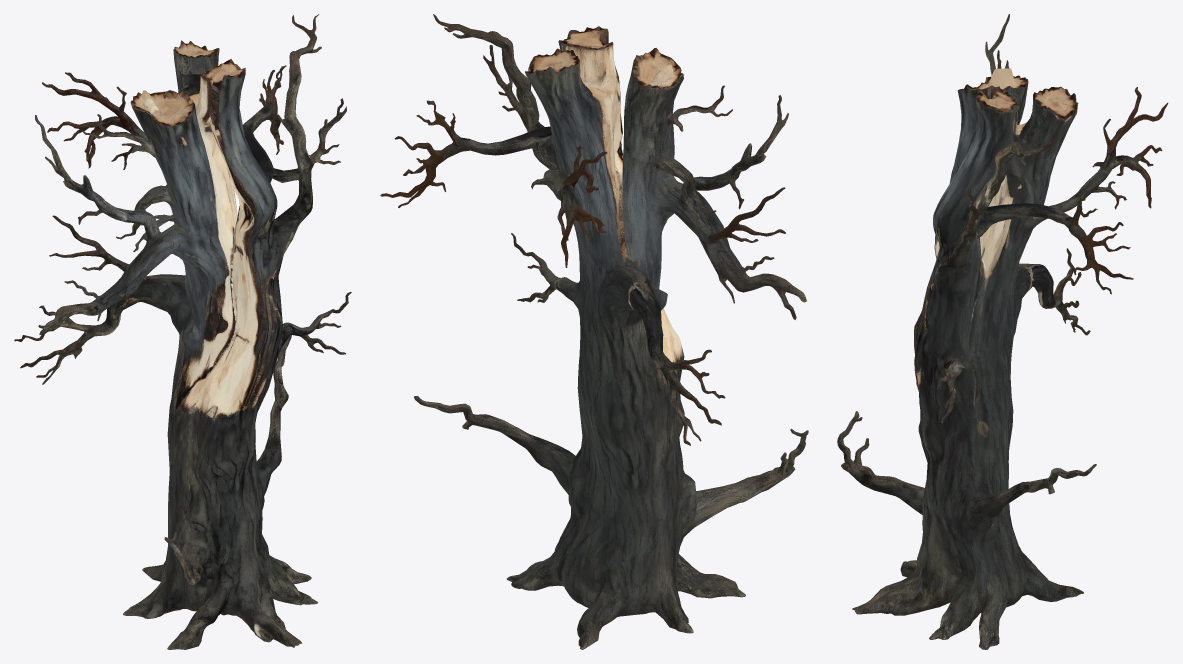
Rendered from autumn-snag.glb.
The picture shows the model from 3 angles, left to right: view 1: azimuth 30°, elevation 25°; view 2: azimuth 150°, elevation 25°; view 3: azimuth 270°, elevation 25°; orthographic projection. The views are drawn at different scales.
Bounding box in the file's own units: 1.17 × 1.9 × 1.09.
Materials: 1 (1 with a texture image).
